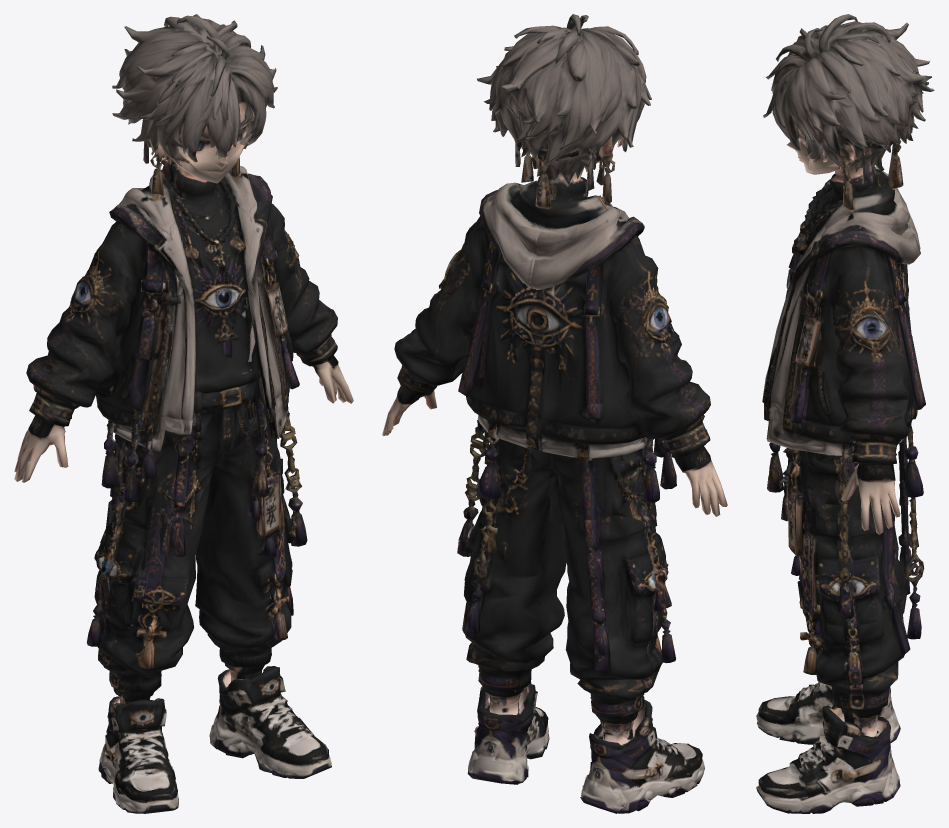
The model's file is lola.glb.
3 renders of one model, left to right at view 1: azimuth 30°, elevation 25°; view 2: azimuth 150°, elevation 25°; view 3: azimuth 270°, elevation 25°, orthographic. The views are drawn at different scales.
Parts seen in each view (by area): view 1: lola; view 2: lola; view 3: lola.
Part boxes in pixels (x1,y1,x2,y2): lola: [14, 14, 353, 813]; lola: [382, 14, 727, 813]; lola: [756, 14, 934, 813].
Size of the model in its own units: 0.9204 by 2 by 0.432.
1 material, 1 textured.
